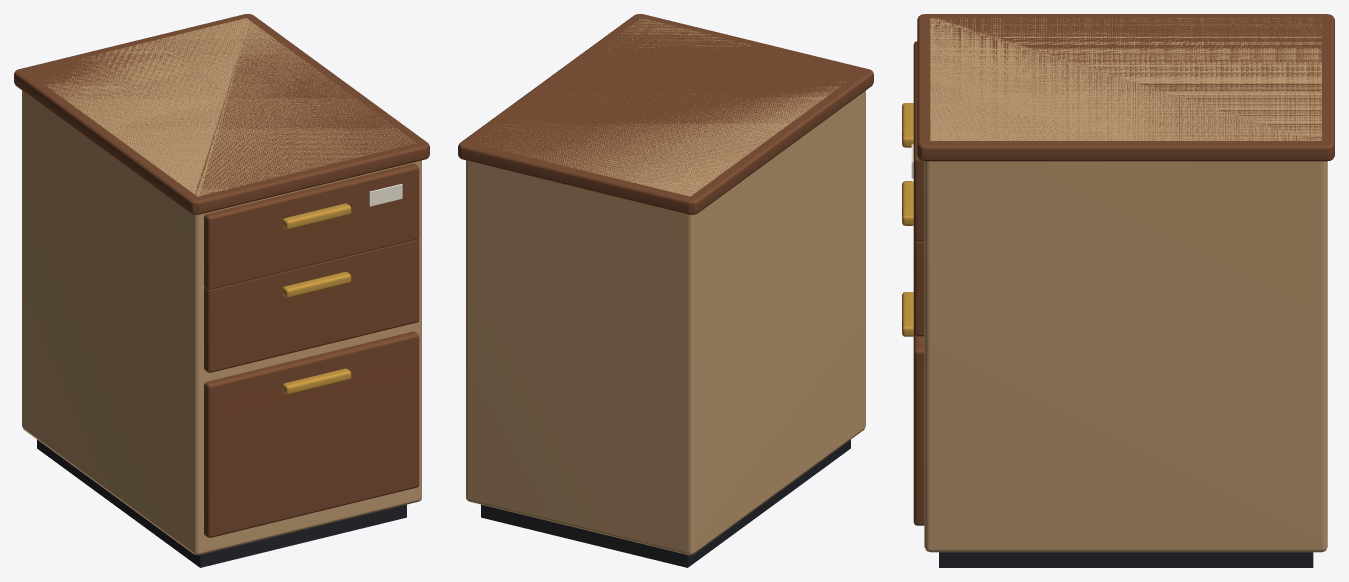
File: RmDrawerUnit.fbx
3 views of the same model, side by side, from view 1: azimuth 30°, elevation 25°; view 2: azimuth 150°, elevation 25°; view 3: azimuth 270°, elevation 25° (orthographic). The views are drawn at different scales.
Parts seen in each view (by area): view 1: RmDrawerUnitBody, Drawer; view 2: RmDrawerUnitBody; view 3: RmDrawerUnitBody, Drawer.
Part boxes in pixels (<box>): RmDrawerUnitBody: <box>14,14,429,567</box>; Drawer: <box>204,163,419,289</box>; RmDrawerUnitBody: <box>458,14,873,567</box>; RmDrawerUnitBody: <box>902,14,1334,567</box>; Drawer: <box>902,41,924,241</box>.
Size of the model in its own units: 0.44 by 0.66 by 0.601.
